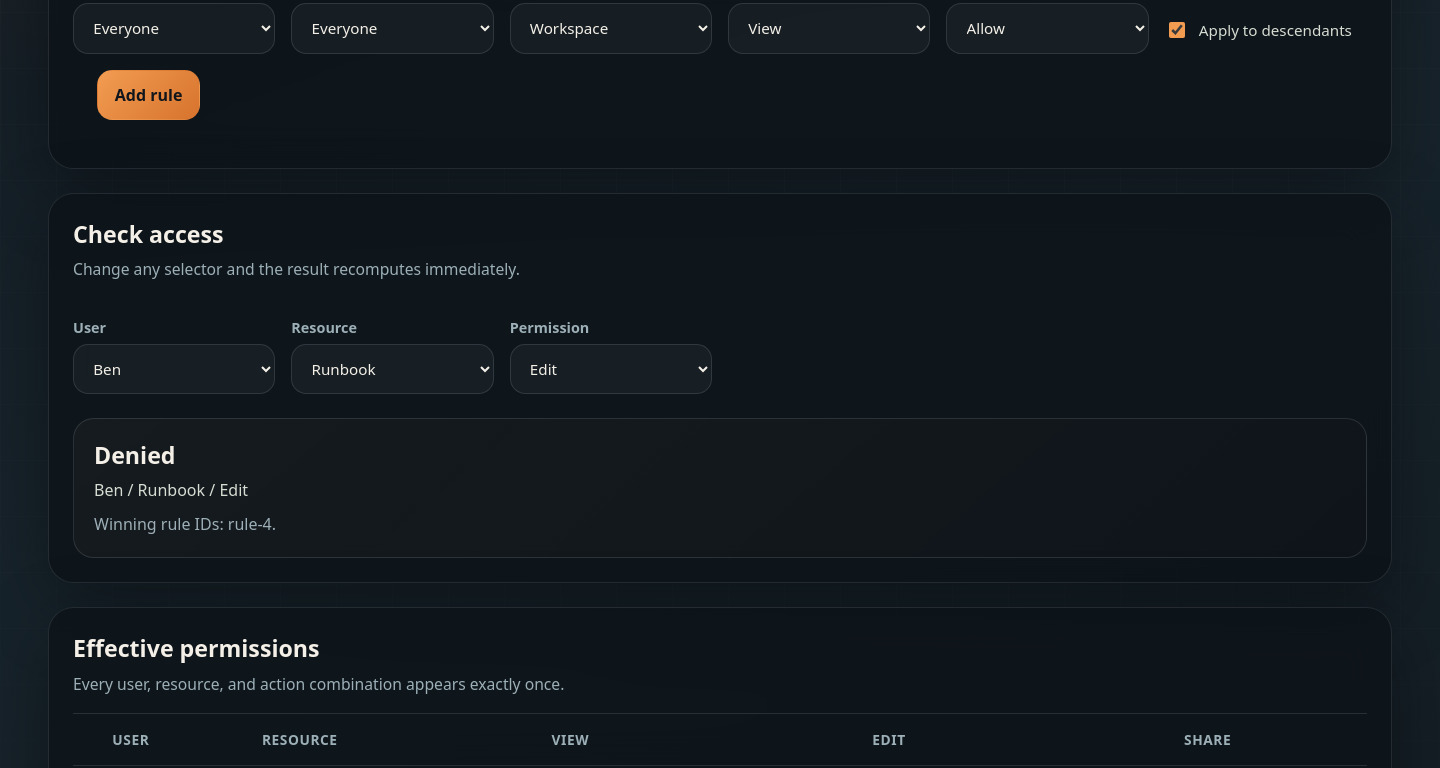
Scenario: Permissions Playground public UI contract › updates results when rules are toggled, deleted, and reset
This screenshot has width=1440, height=768.
(page scrolled)
Select "Cy" in the dropdown labelled "User": (174, 369) [73,344,275,394]
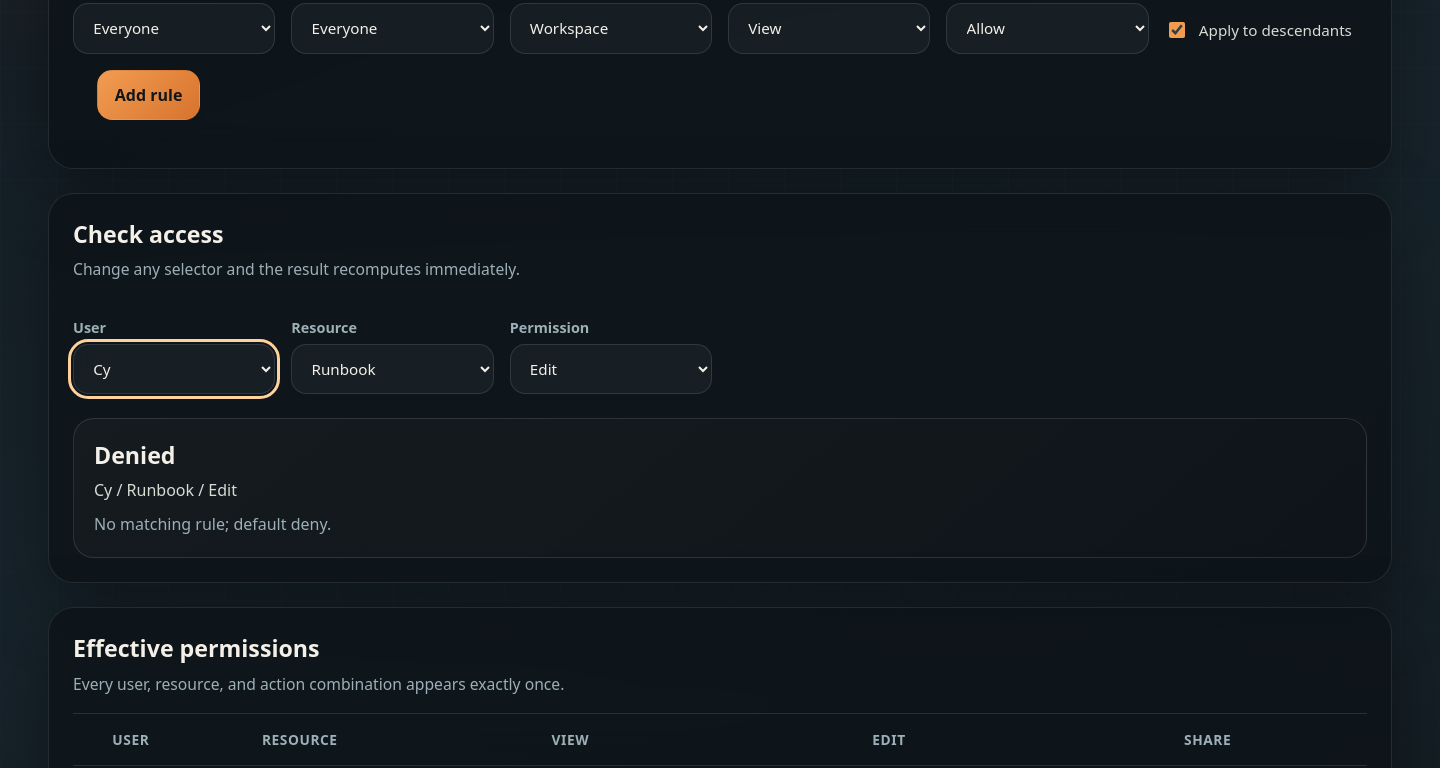
Select "Budget" in the dropdown labelled "Resource" below "Check access": (392, 369) [291,344,494,394]
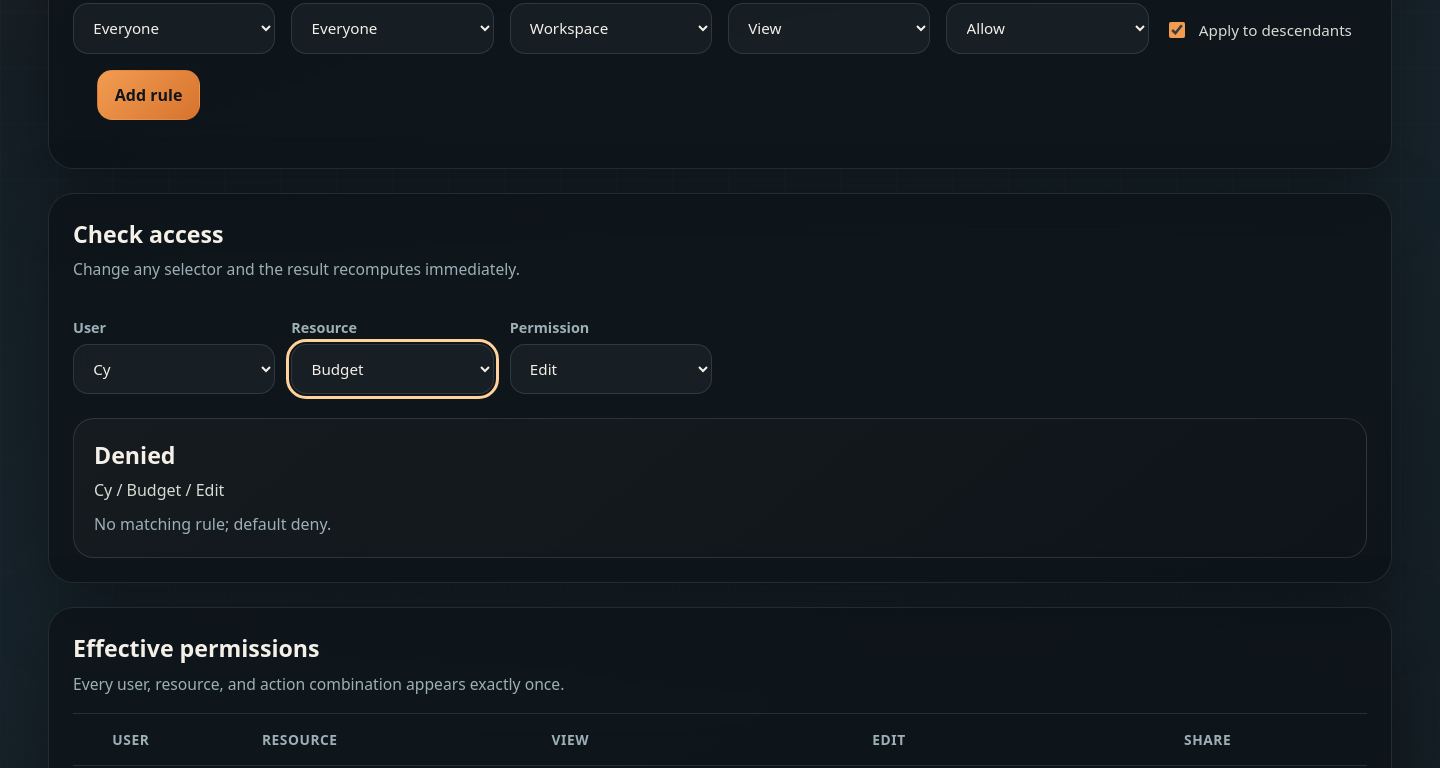
Select "View" in the dropdown labelled "Permission": (611, 369) [510,344,712,394]
(page scrolled)
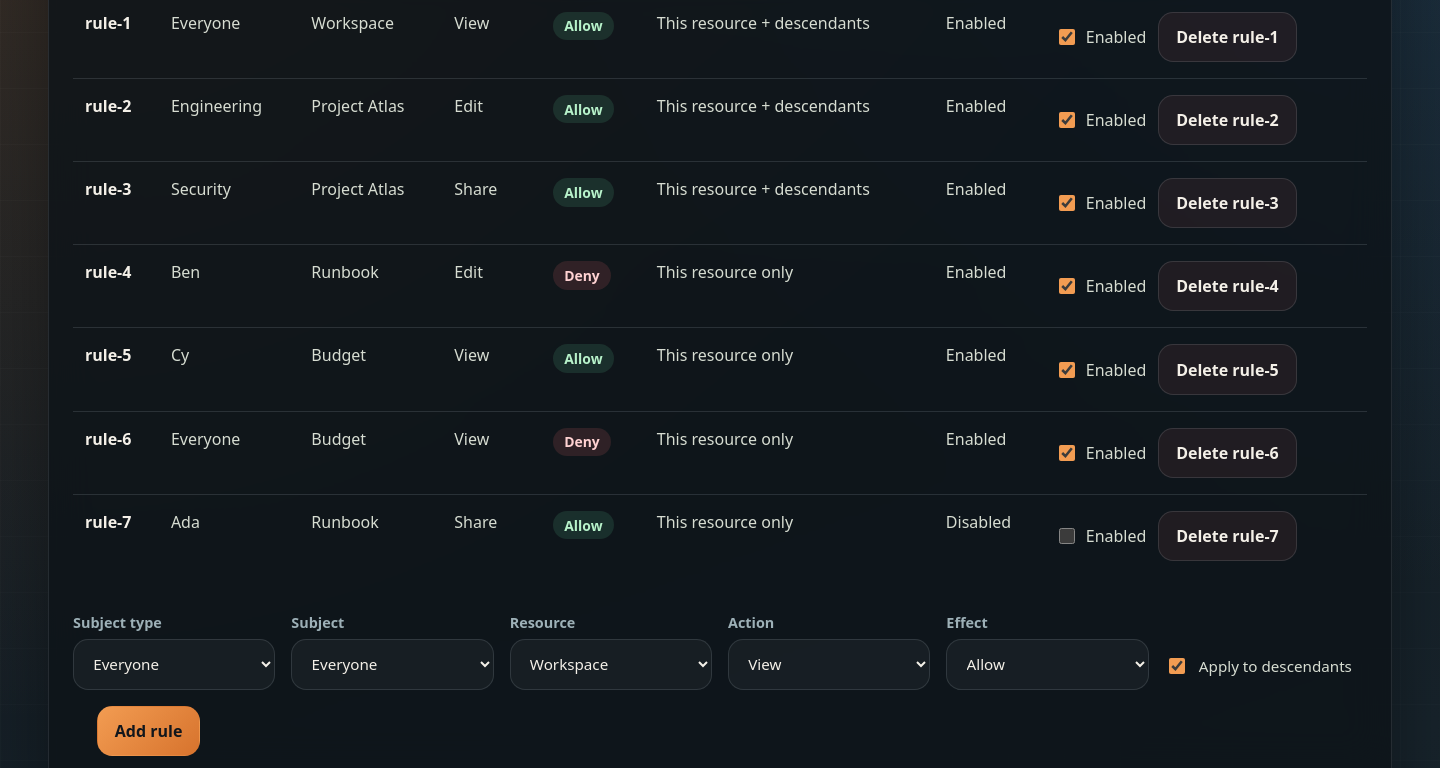
Click the checkbox named "Enable rule-5": (1067, 370) [1059,362,1075,378]
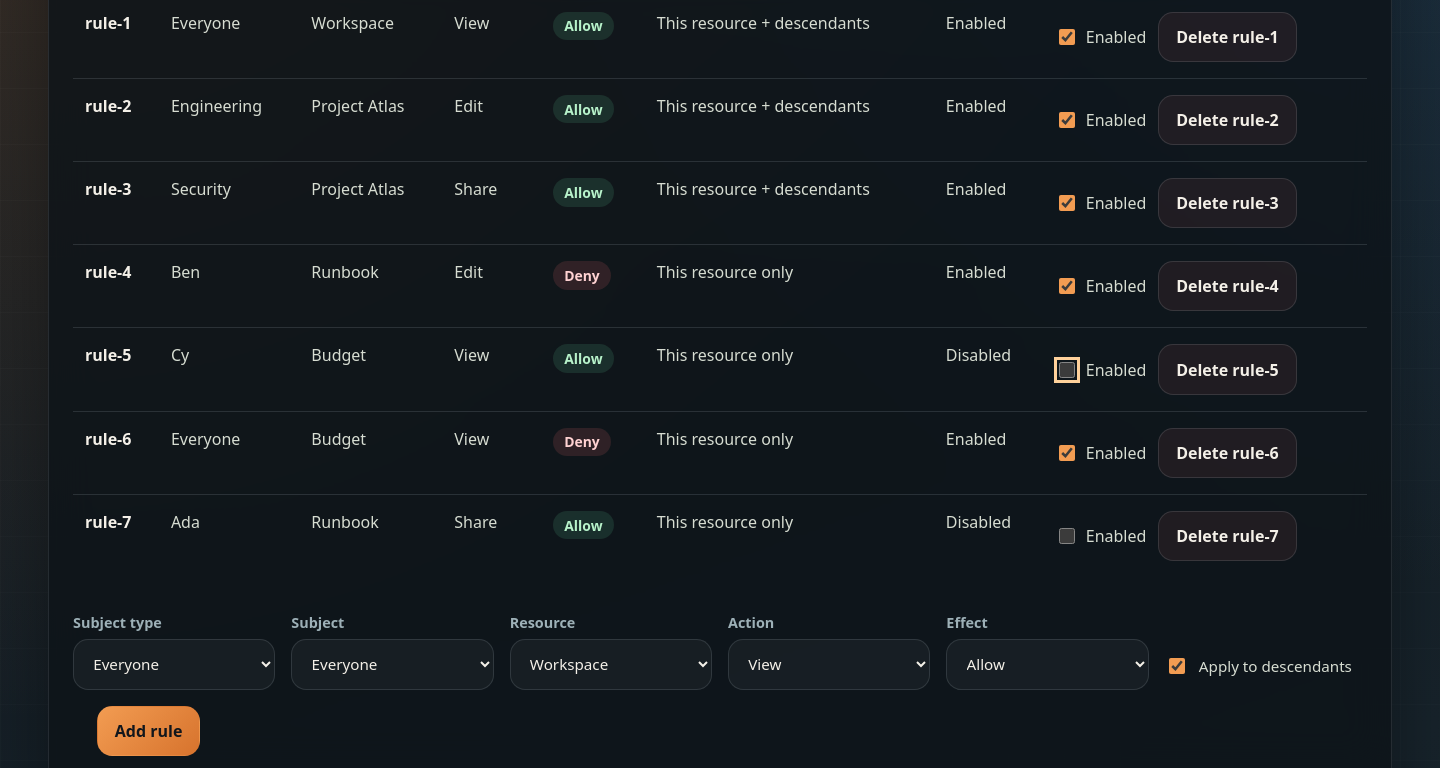
Click the button "Delete rule-6": (1227, 453) [1158,428,1296,478]
(page scrolled)
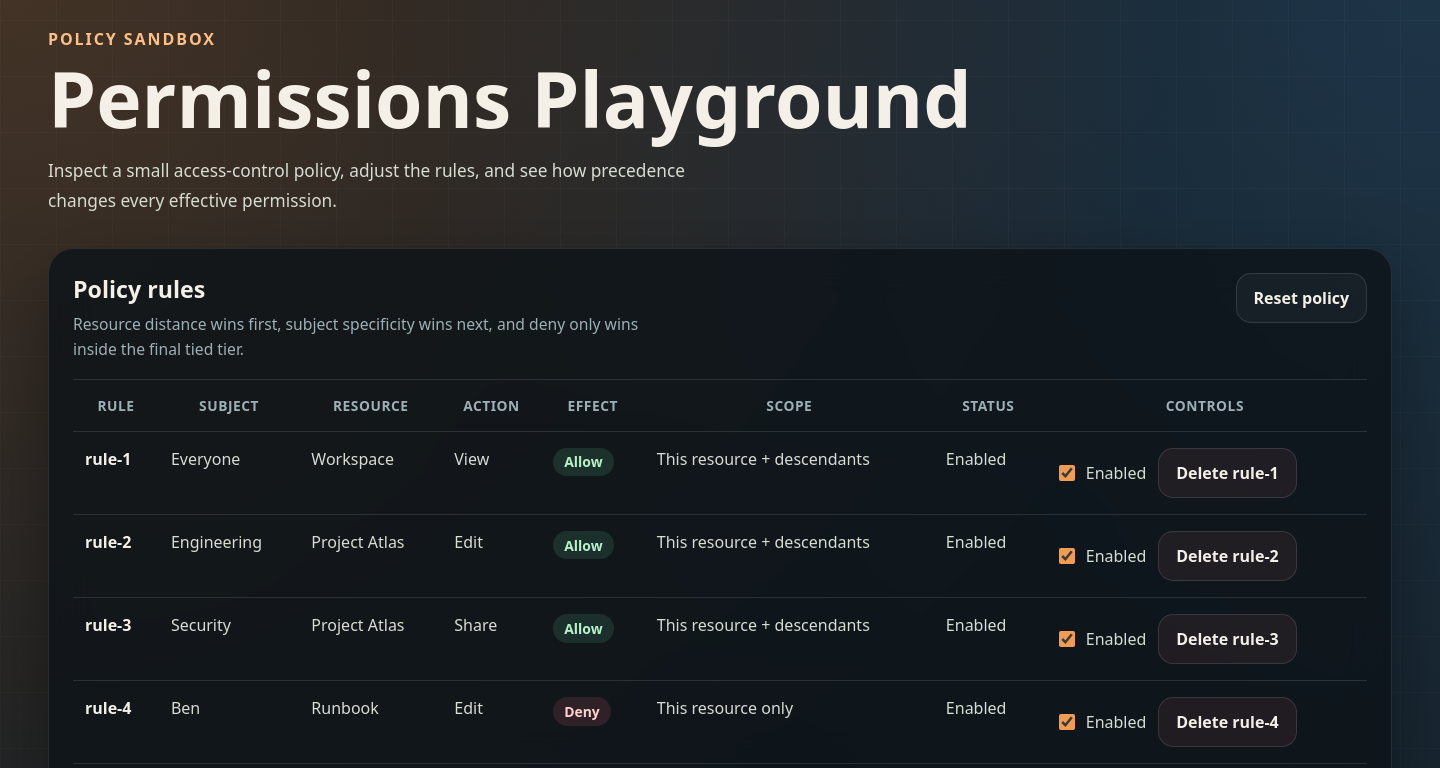
Click the button "Reset policy": (1301, 298) [1236,273,1367,323]
(page scrolled)
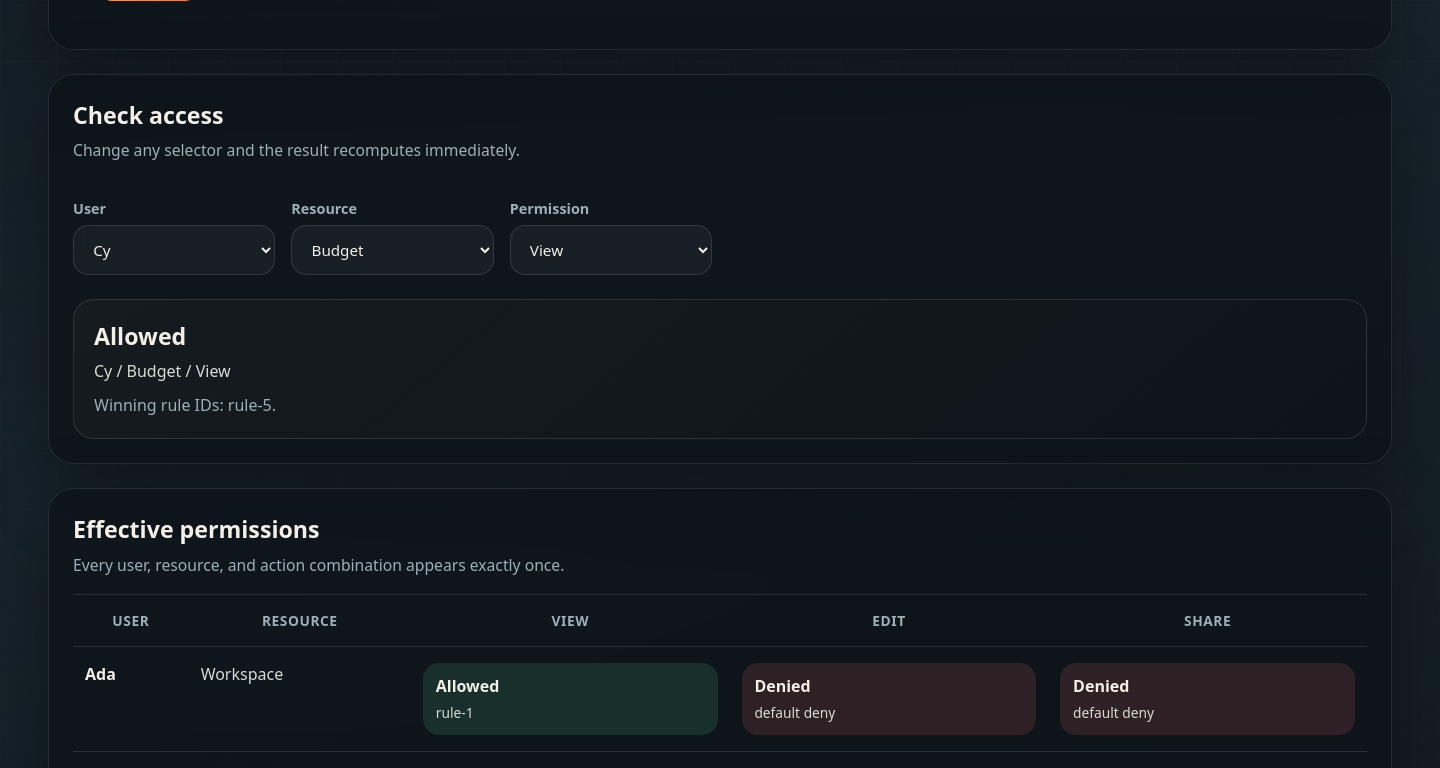
Now the message shows "Allowed", box [94,320,186,352]
Now the message shows "rule-5", box [94,394,276,416]
